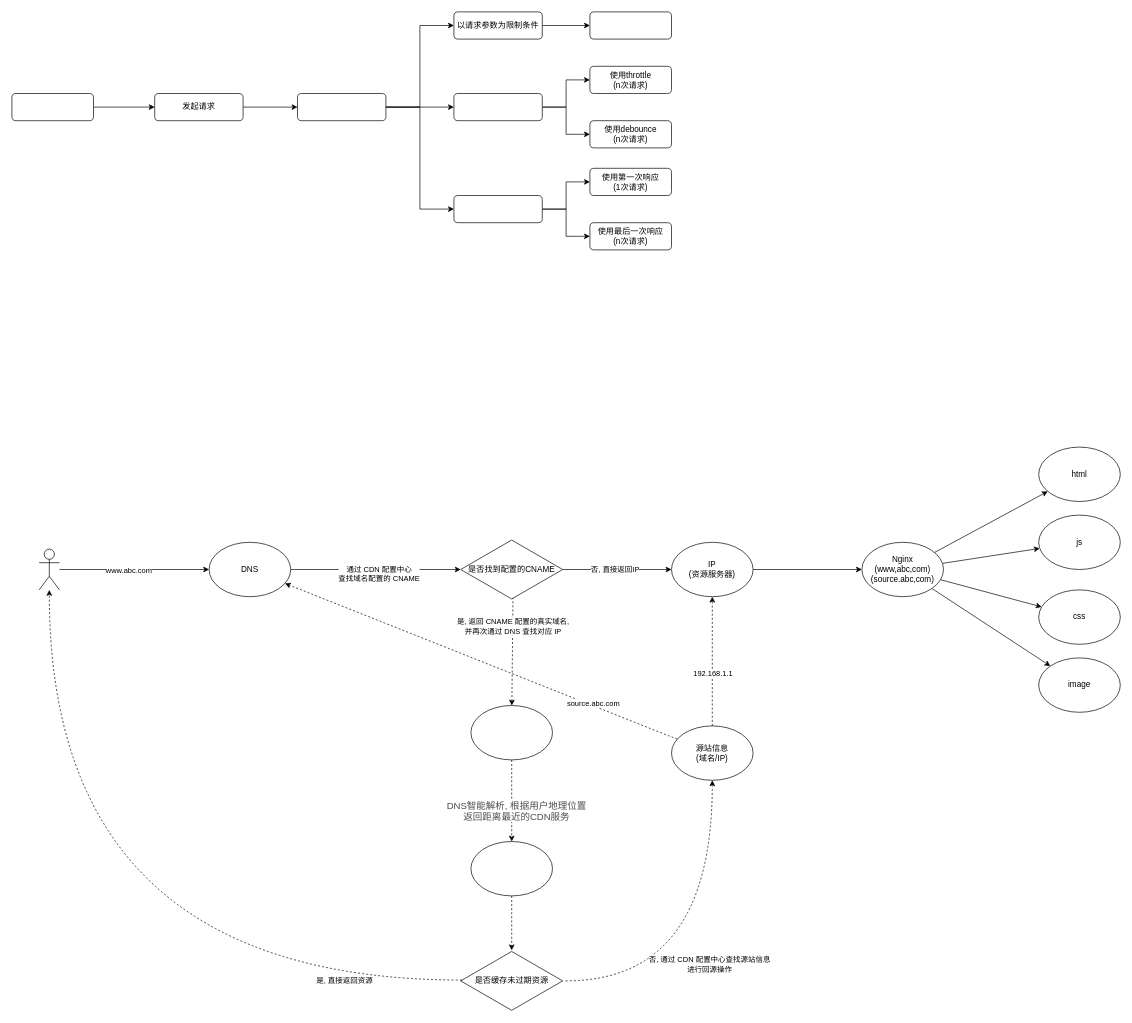
This 1132x1023 diagram has some shape labels left out. The shapes that lost their labels are listed below. From the top down, each one's centre as x and y in pixels, then its label:
At (x=630, y=25): "使用memoize (1次请求)".
At (x=52, y=107): "页面".
At (x=341, y=107): "JS拦截请求 (重复请求策略)".
At (x=497, y=107): "以请求时间为限制条件".
At (x=497, y=209): "以响应时间为限制条件".
At (x=49, y=569): "Actor".
At (x=511, y=732): "CDN (全局负载均衡)".
At (x=511, y=868): "CDN节点服务器".
